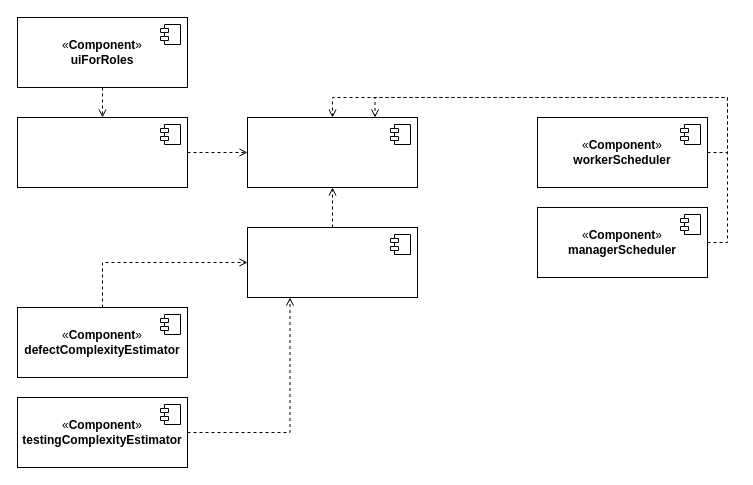
This 753x485 diagram has some shape labels left out. Here are the shapes that lost their labels. From the top down, the centre of each, then its label:
pixel 102 152: « Component » roleSeparator
pixel 332 152: « Component » scheduler
pixel 332 262: « Component » worktimeEstimator
